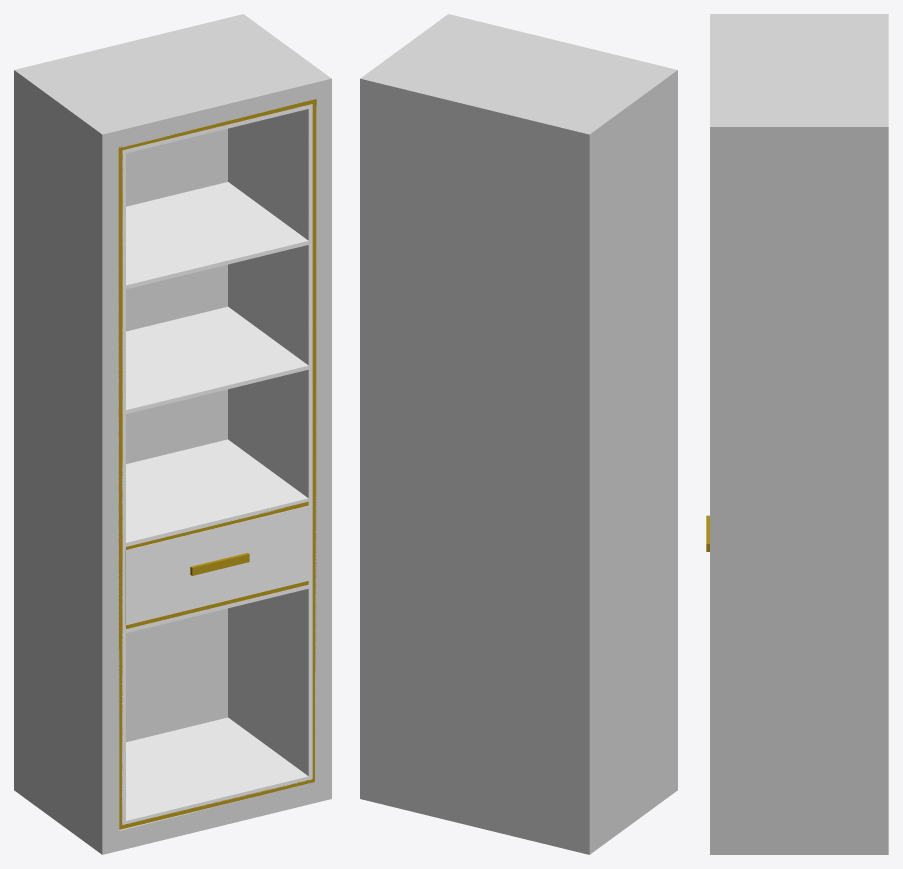
The picture shows the model from 3 angles, left to right: view 1: azimuth 30°, elevation 25°; view 2: azimuth 150°, elevation 25°; view 3: azimuth 270°, elevation 25°; orthographic projection.
Parts seen in each view (by area): view 1: Cube, Cube.003, Cube.013, Cube.011, Cube.012, Cube.015, Cube.008, Cube.002, Cube.001, Cube.004, Cube.007, Cube.016 (+5 smaller); view 2: Cube; view 3: Cube.
Boxes of the visible parts, x1,y1,x2,y2 form: Cube: (14,14,331,854); Cube.003: (228,106,312,778); Cube.013: (125,505,308,625); Cube.011: (123,306,312,414); Cube.012: (123,182,308,289); Cube.015: (125,439,308,546); Cube.008: (124,717,312,824); Cube.002: (118,146,122,829); Cube.001: (312,99,316,781); Cube.004: (122,152,125,824); Cube.007: (122,104,312,153); Cube.016: (125,584,308,633); Cube: (360,14,677,854); Cube: (710,14,888,854).
Bounding box in the file's own units: 0.6 × 1.8 × 0.4082.
